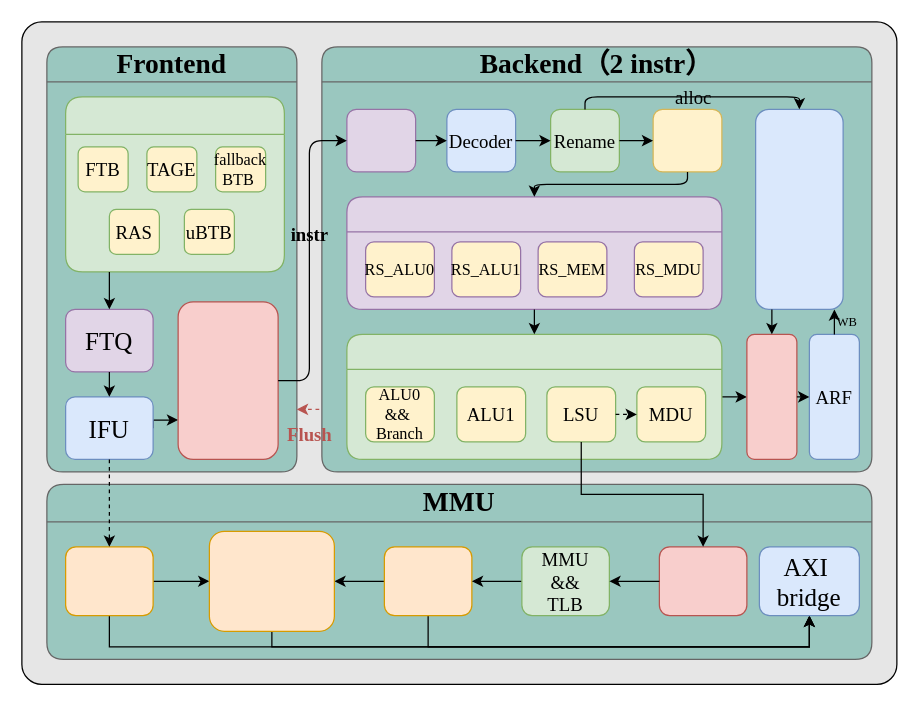
Some shapes in this 919 by 706 pixel diagram are drawn without their labels. Here are the shapes that lost their labels. From the top down, the box of each, then its label:
(346, 108, 416, 172): Instruction Buffer
(652, 108, 722, 172): Dispatch
(64, 96, 284, 272): Branch Predict Unit
(754, 108, 843, 309): Reorder Buffer (32 entries)
(346, 196, 722, 309): RS
(177, 301, 278, 459): Pre decoder
(346, 333, 722, 459): Execute
(746, 333, 797, 459): commit && flush
(64, 546, 153, 616): L1 ICache
(208, 530, 334, 631): L2 Cache 128KB
(383, 546, 472, 616): L1 DCache
(658, 546, 747, 616): STQ && SB
